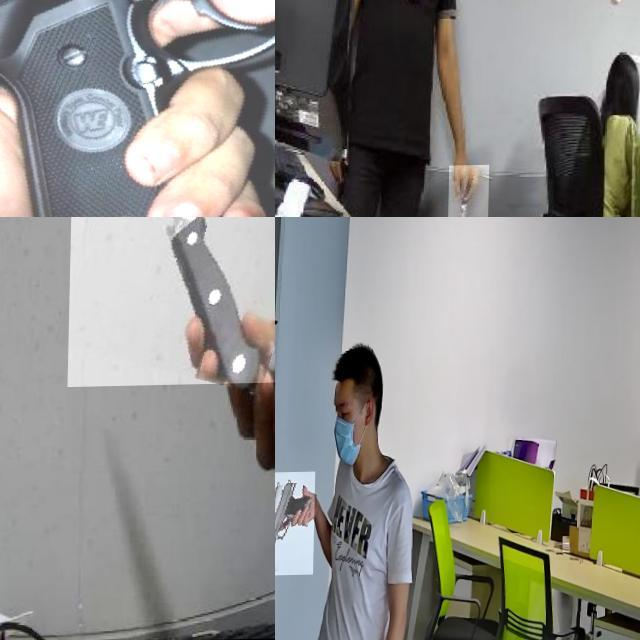-: (69, 217, 275, 388), (450, 166, 491, 217)
gun-knife-thesis - v11 Yolov5 augmented: (0, 0, 275, 217), (275, 472, 316, 576)
